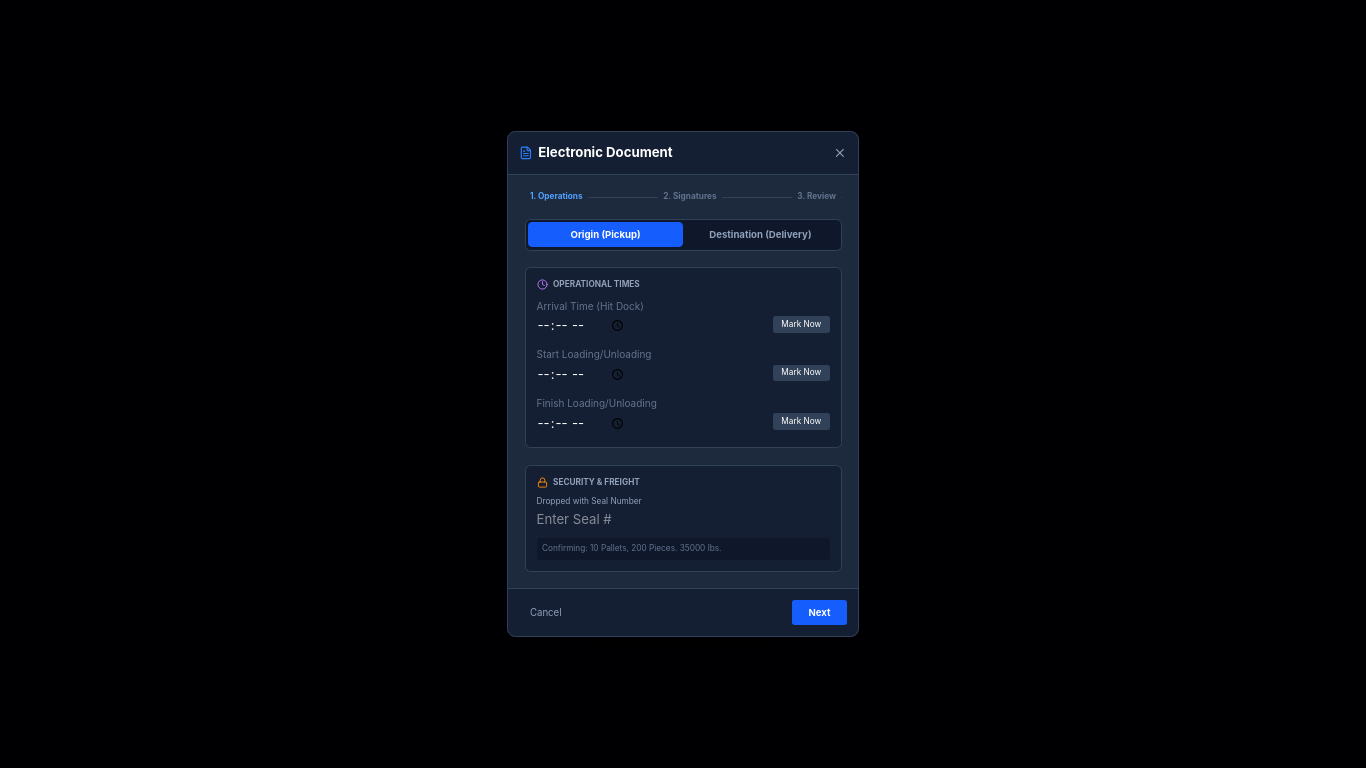
Test: BolGenerator deep coverage - uncovered lines 248-319 › step 1 - Operational Times section (lines 261-326) › all three Mark Now buttons populate their respective time fields
# Click each Mark Now button
Click the button "Mark Now" below "Arrival Time (Hit Dock)" at (801, 324), box [773, 316, 830, 333]
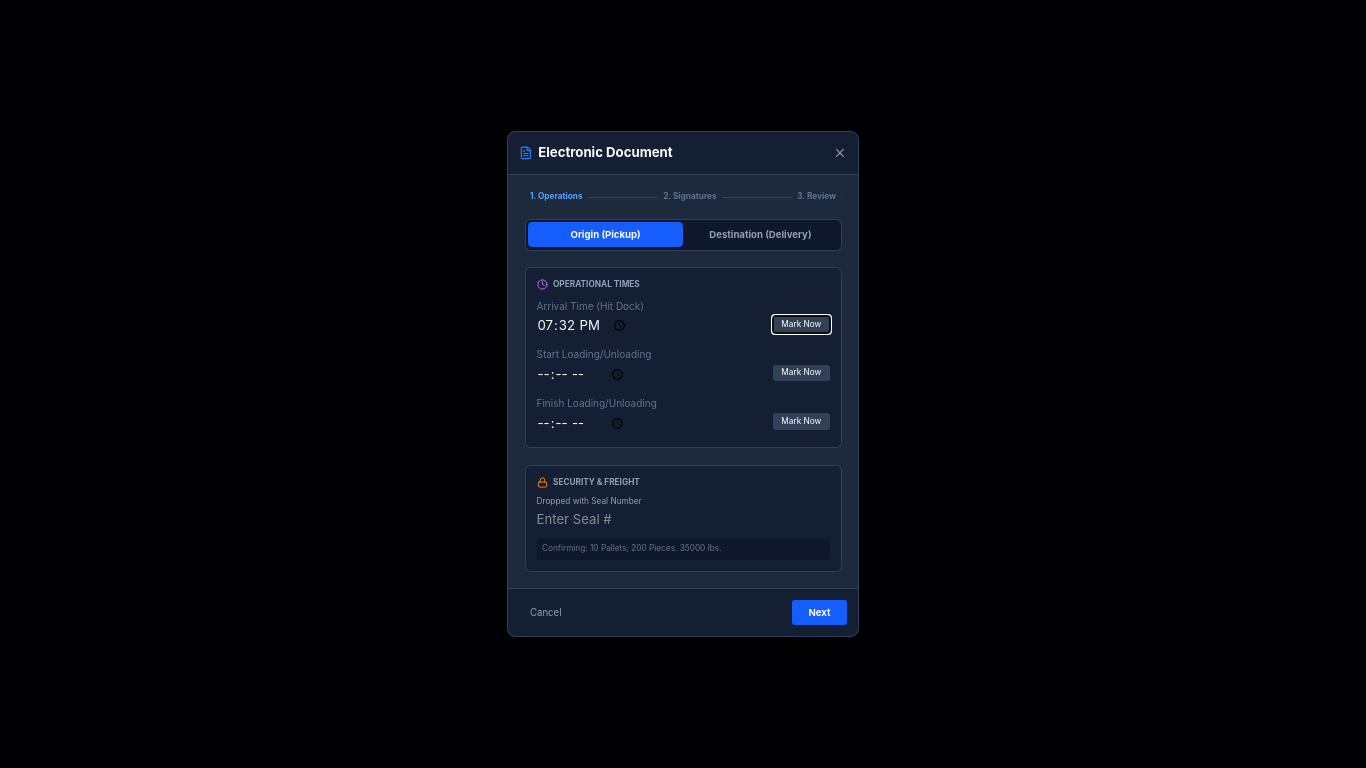
Click the button "Mark Now" below "Start Loading/Unloading" at (801, 373), box [773, 365, 830, 381]
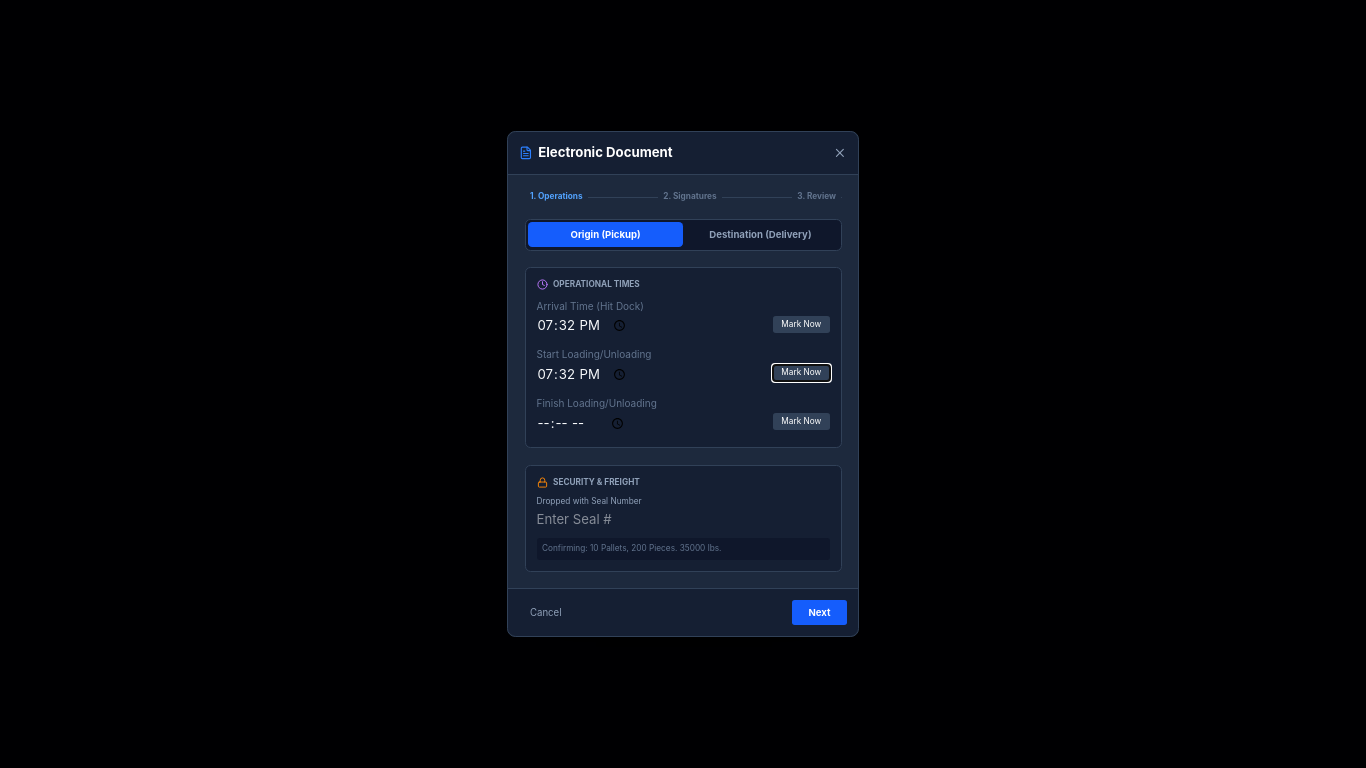
Click the button "Mark Now" below "Finish Loading/Unloading" at (801, 422), box [773, 413, 830, 430]
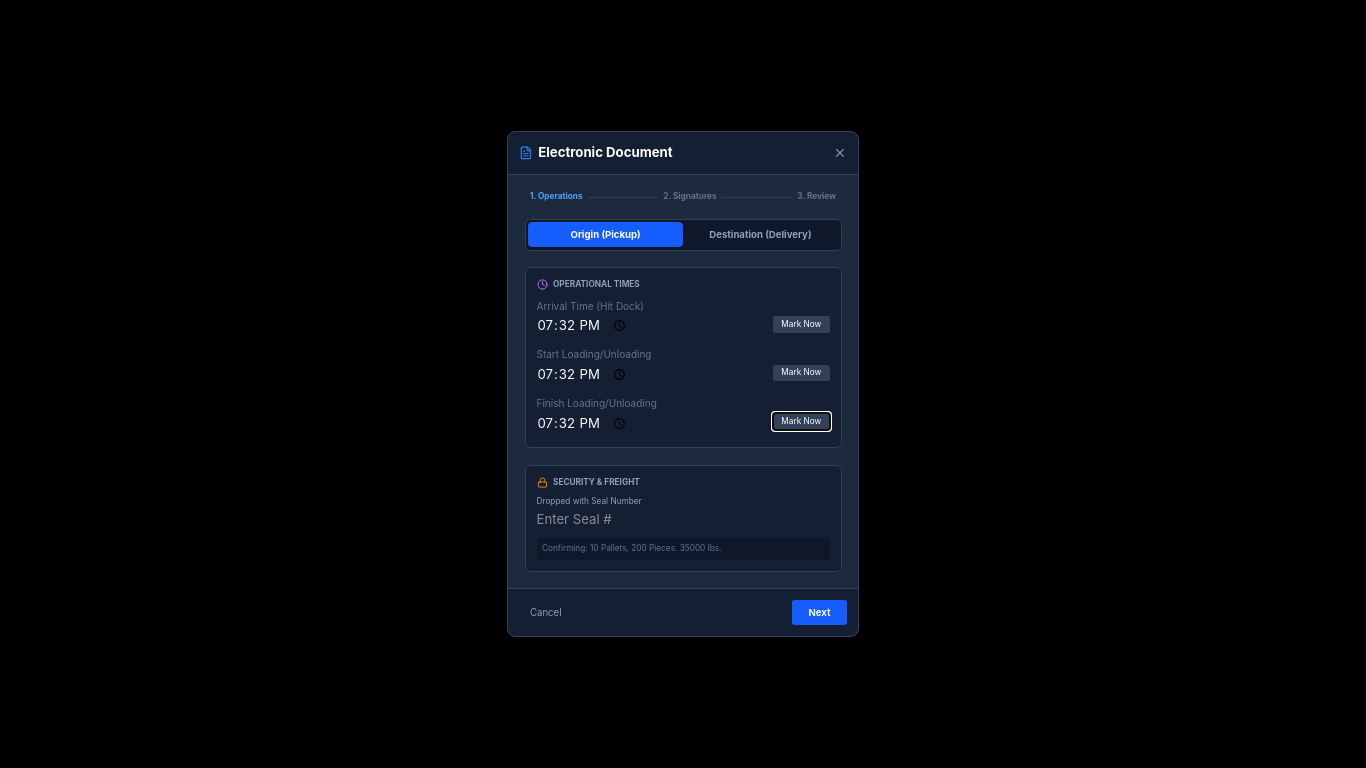
Expected: the time field labelled "Arrival Time (Hit Dock)" is not empty, [536, 314, 629, 339]
Expected: the time field labelled "Start Loading/Unloading" is not empty, [536, 362, 629, 388]
Expected: the time field labelled "Finish Loading/Unloading" is not empty, [536, 411, 629, 436]
